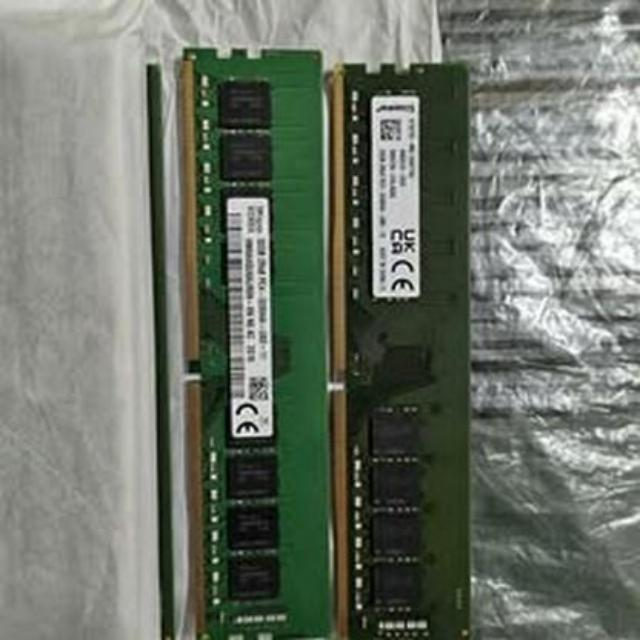RAM: (174, 43, 334, 640), (329, 46, 474, 640)
